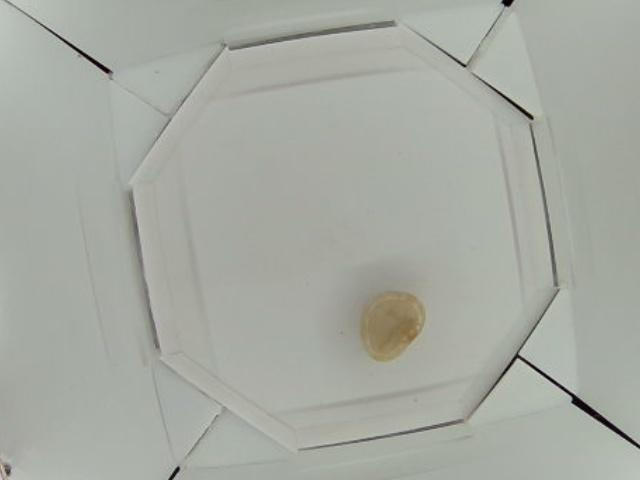Pebble: (361, 290, 425, 363)
